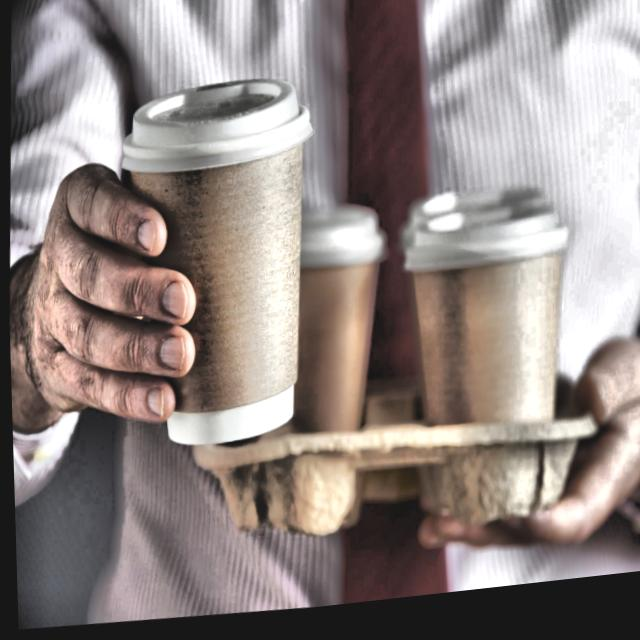Cup: (104, 60, 313, 455), (396, 204, 574, 527), (233, 209, 392, 501)
